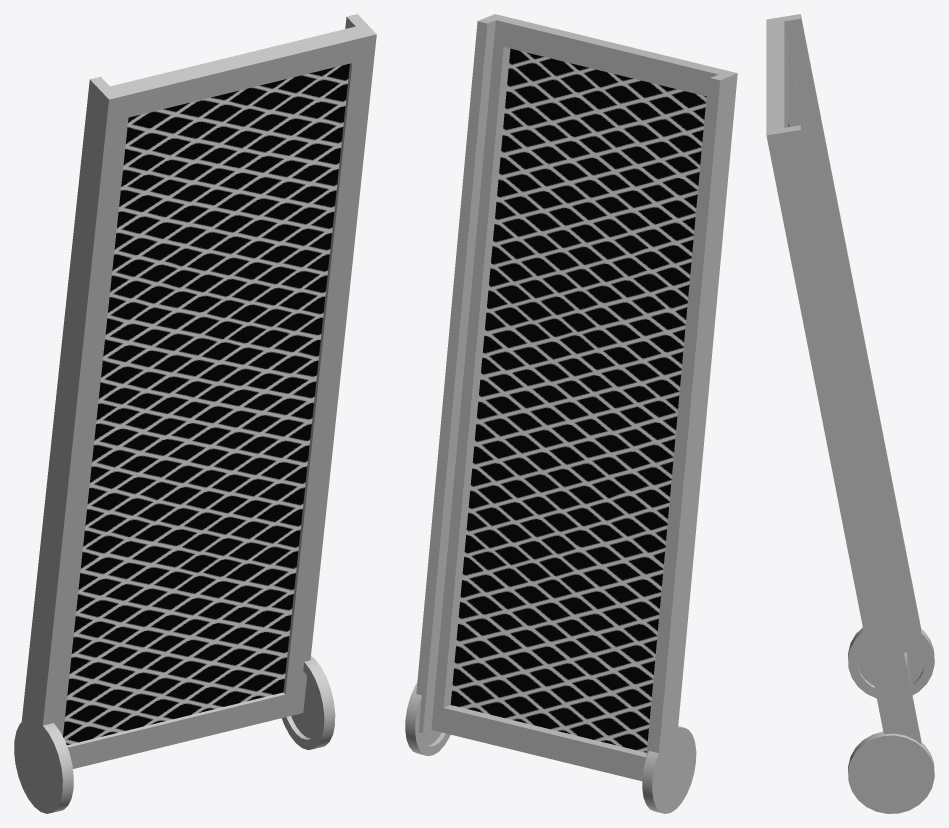
File: SM_Scene_A_Bridge00.fbx
The picture shows the model from 3 angles, left to right: view 1: azimuth 30°, elevation 25°; view 2: azimuth 150°, elevation 25°; view 3: azimuth 270°, elevation 25°; orthographic projection. The views are drawn at different scales.
Visible parts, largest first — view 1: SM_Scene_A_Bridge00; view 2: SM_Scene_A_Bridge00; view 3: SM_Scene_A_Bridge00.
Boxes of the visible parts, left/top/right/bottom form: SM_Scene_A_Bridge00: left=14, top=14, right=376, bottom=813; SM_Scene_A_Bridge00: left=405, top=14, right=737, bottom=813; SM_Scene_A_Bridge00: left=766, top=14, right=934, bottom=813.
Bounding box in the file's own units: 472 × 1272 × 284.
